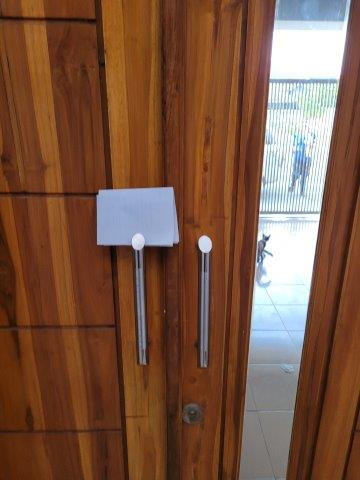kertas: (93, 186, 181, 248)
